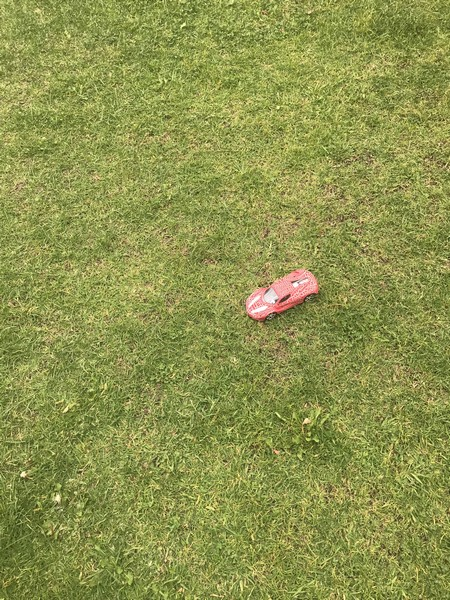RC: (243, 269, 322, 323)
